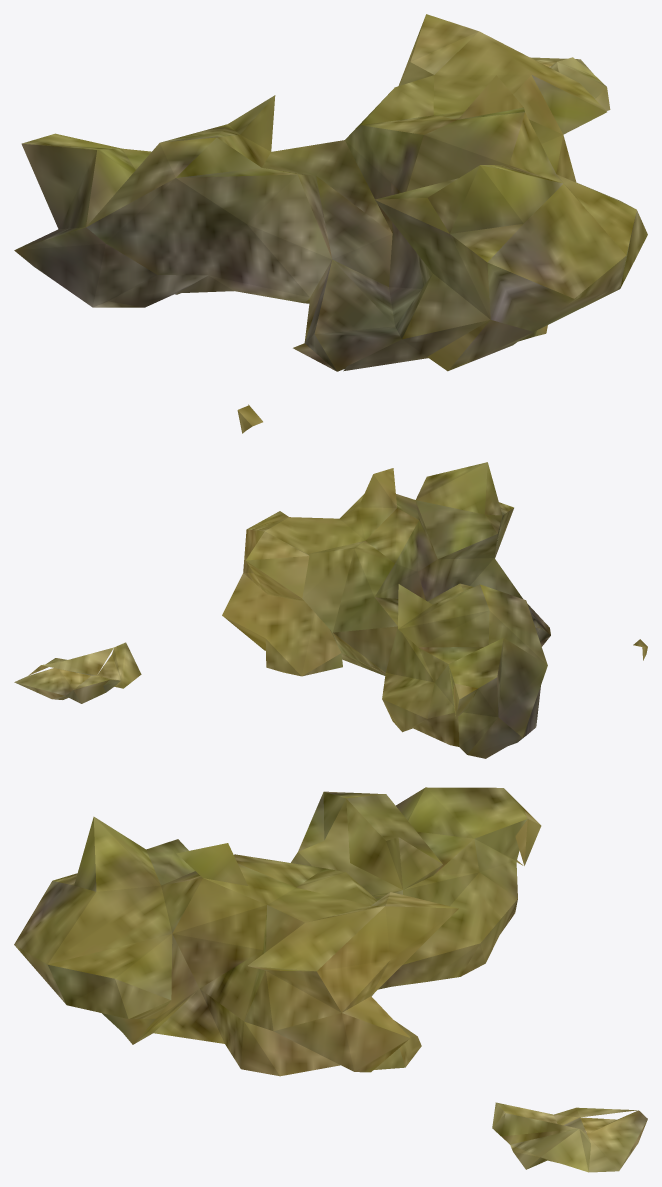
3 renders of one model, top to bottom at view 1: azimuth 30°, elevation 25°; view 2: azimuth 150°, elevation 25°; view 3: azimuth 270°, elevation 25°, orthographic. The views are drawn at different scales.
Visible parts, largest first — view 1: Mesh_0; view 2: Mesh_0; view 3: Mesh_0.
Boxes of the visible parts, bbox=[...] form: Mesh_0: bbox=[14, 14, 647, 433]; Mesh_0: bbox=[14, 462, 647, 758]; Mesh_0: bbox=[14, 787, 647, 1172].
Bounding box in the file's own units: 16.34 × 5.68 × 15.14.
1 material, 1 textured.
